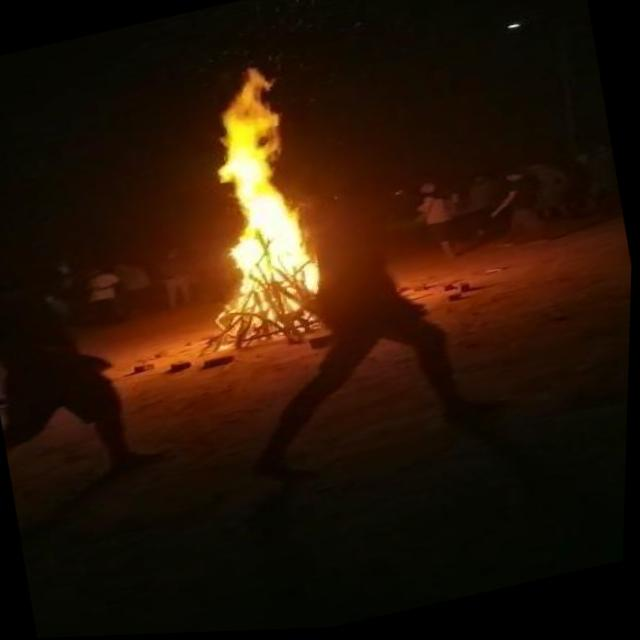fire: (161, 51, 344, 354)
